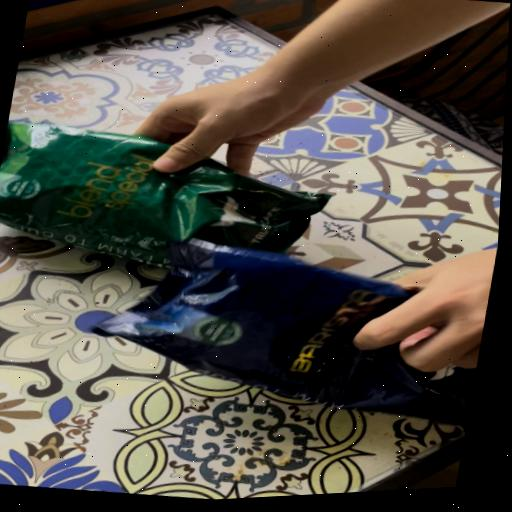cafe_hat: (94, 240, 476, 424), (0, 122, 328, 267)
cafe_xay: (0, 123, 327, 267)
